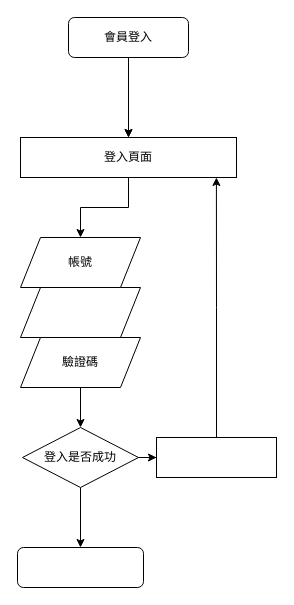
Some shapes in this 294 by 605 pixel diagram are drawn without their labels. The shapes that lost their labels are listed below. From the top down, each one's centre as x and y in pixels, then its label:
At (x=80, y=312): "密碼".
At (x=216, y=457): "登入失敗".
At (x=80, y=567): "會員資訊頁".
